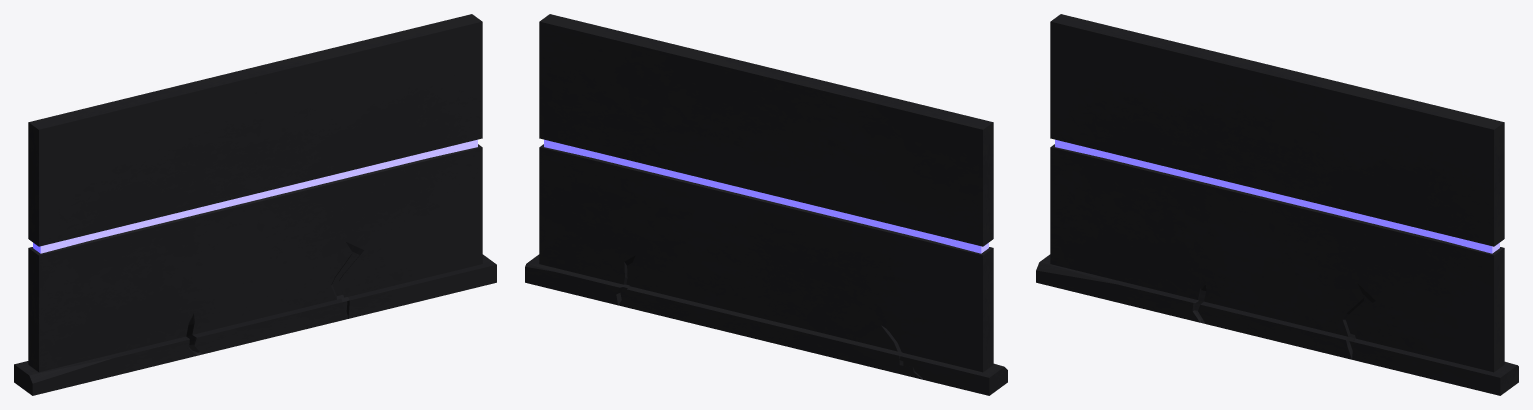
File: bigwall.glb
3 renders of one model, left to right at view 1: azimuth 30°, elevation 25°; view 2: azimuth 150°, elevation 25°; view 3: azimuth 330°, elevation 25°, orthographic.
Visible parts, largest first — view 1: bigWall; view 2: bigWall; view 3: bigWall.
Boxes of the visible parts, x1,y1,x2,y2 form: bigWall: (14, 14, 496, 395); bigWall: (525, 14, 1007, 395); bigWall: (1036, 14, 1518, 395).
Size of the model in its own units: 12.16 by 6.61 by 0.8399.
Materials: 2 (1 with a texture image).
